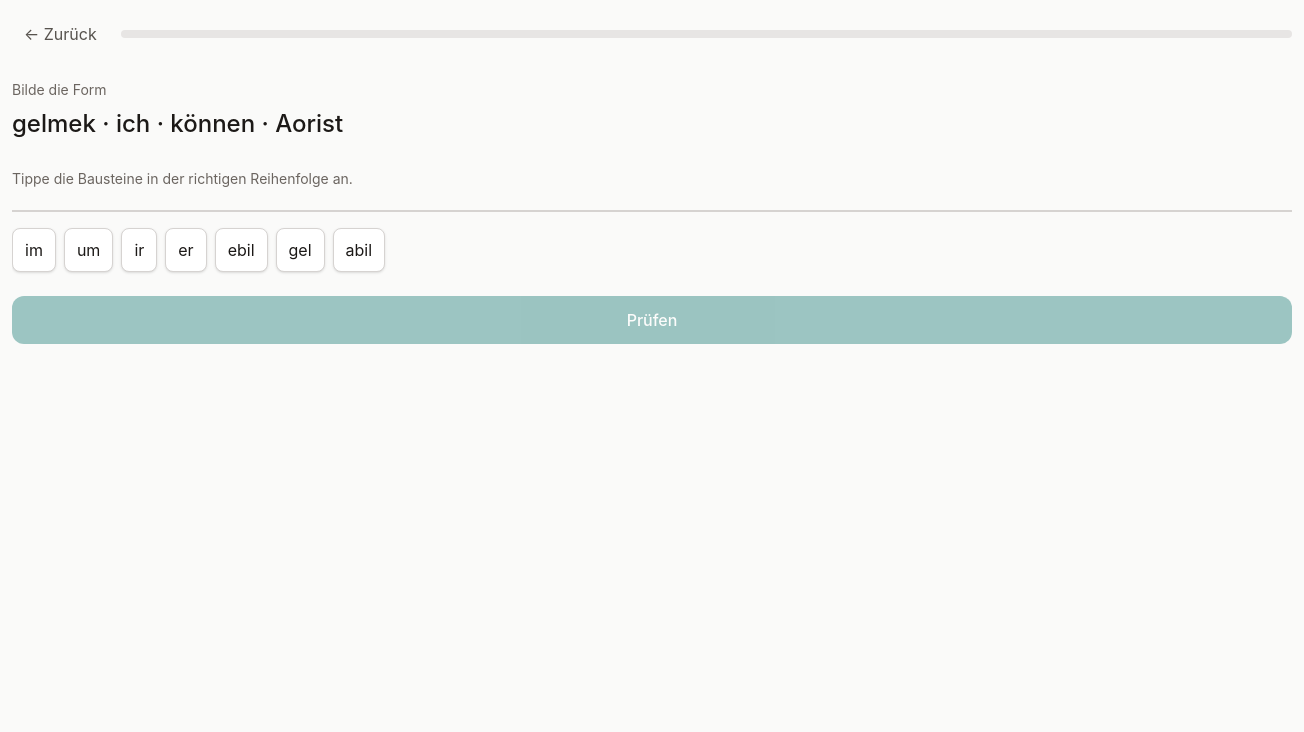
Test: LessonRunner › Konjugation mit „können“: Formel und Begründung des Aorist-Vokals
The width and height of the screenshot is (1304, 732).
Check: the text "gelmek · ich · können · Aorist" is shown, box [12,109,343,138]
Click the button "gel": (300, 250) [276,228,324,272]
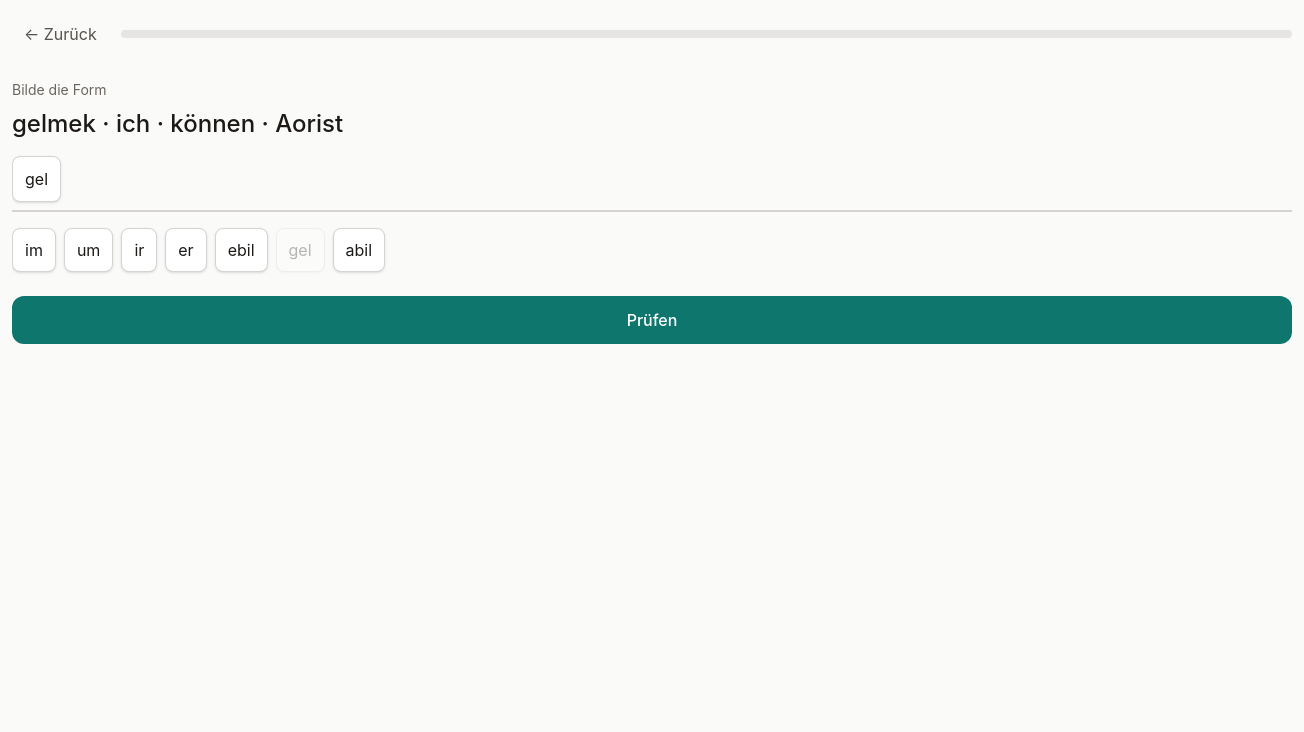
Click the button "ebil": (241, 250) [215,228,268,272]
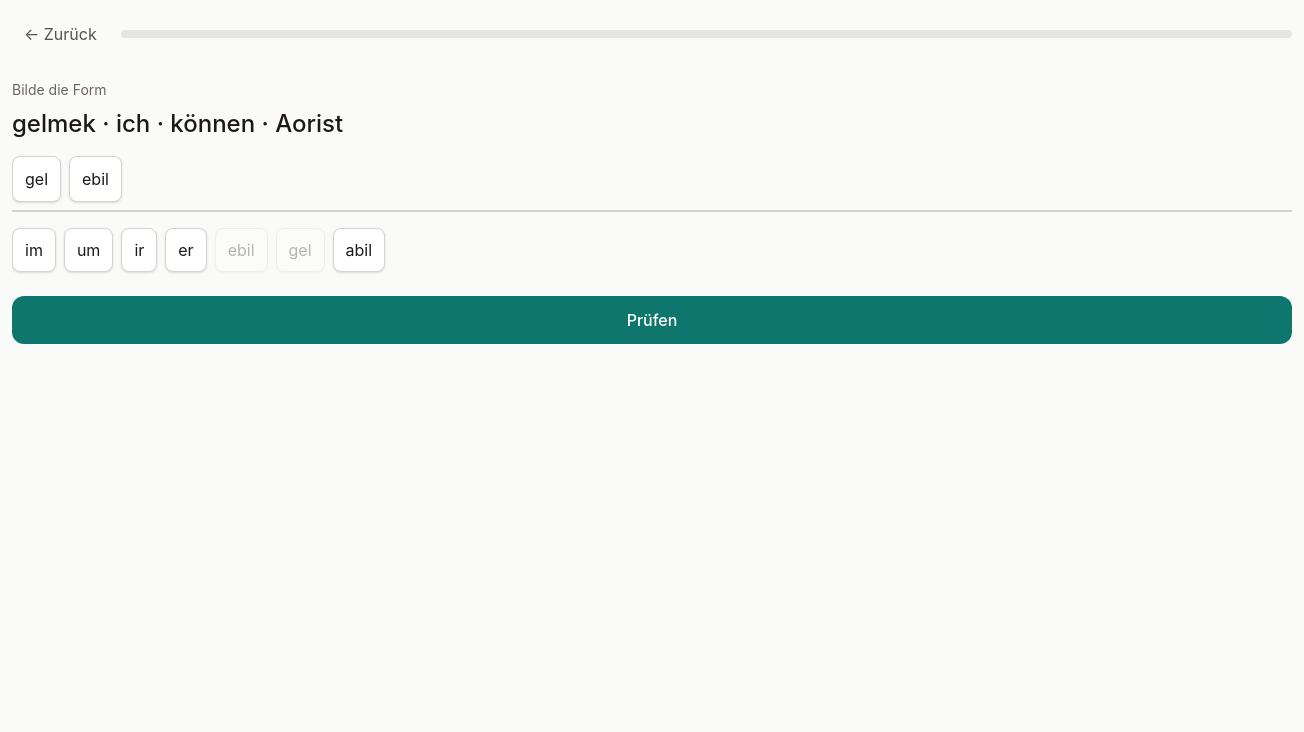
Click the button "ir": (139, 250) [121,228,157,272]
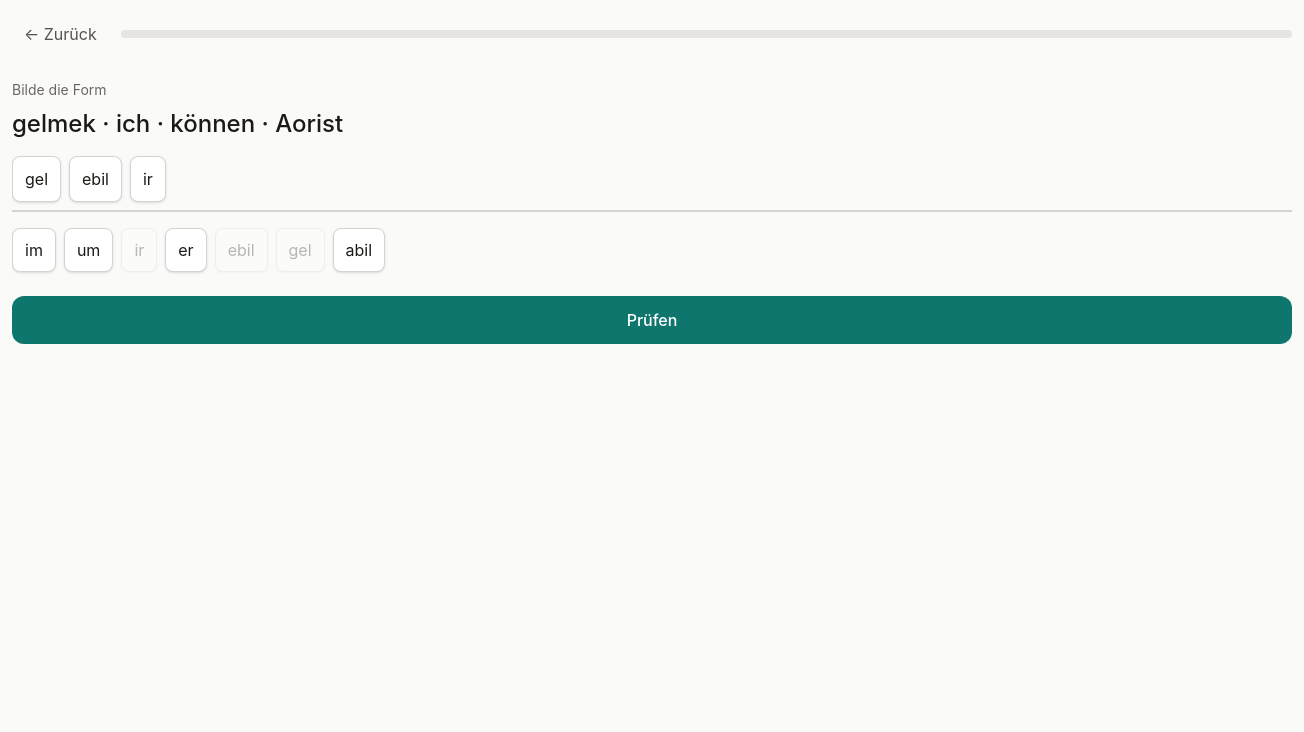
Click the button "im": (34, 250) [12,228,56,272]
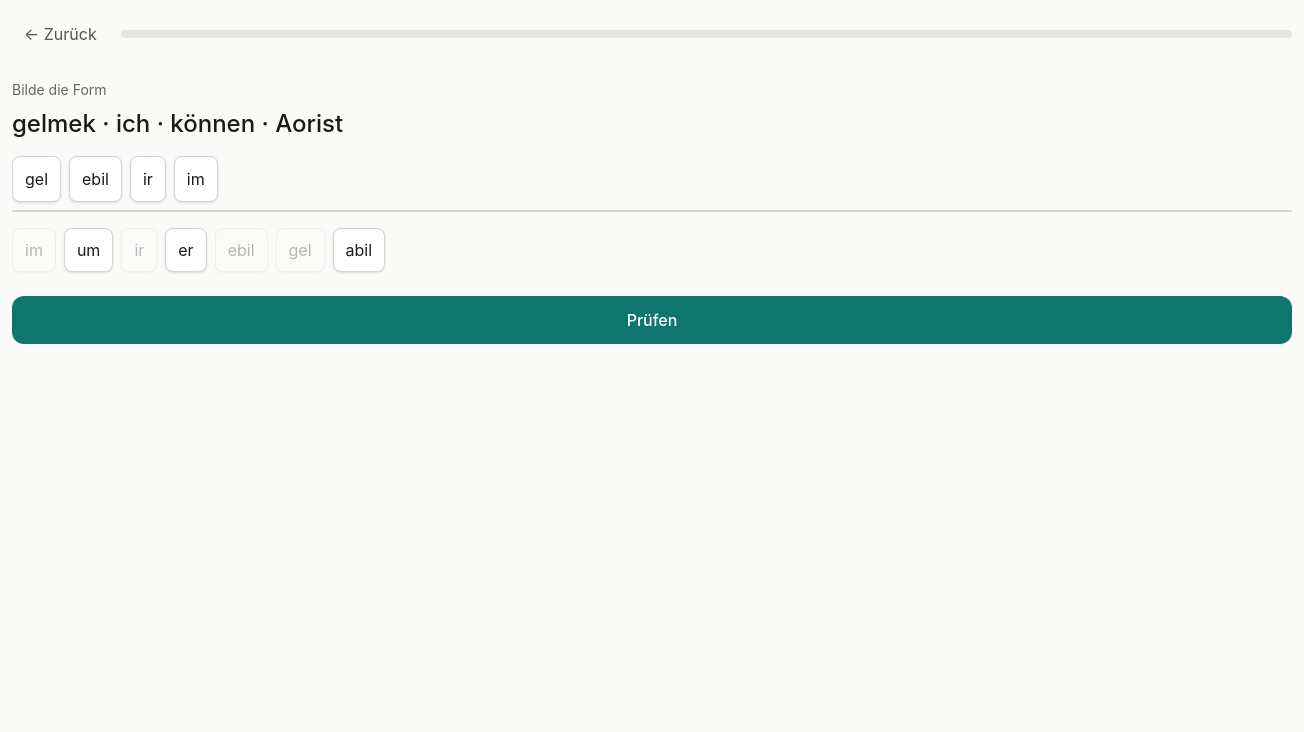
Click the button "Prüfen": (652, 320) [12,296,1292,344]
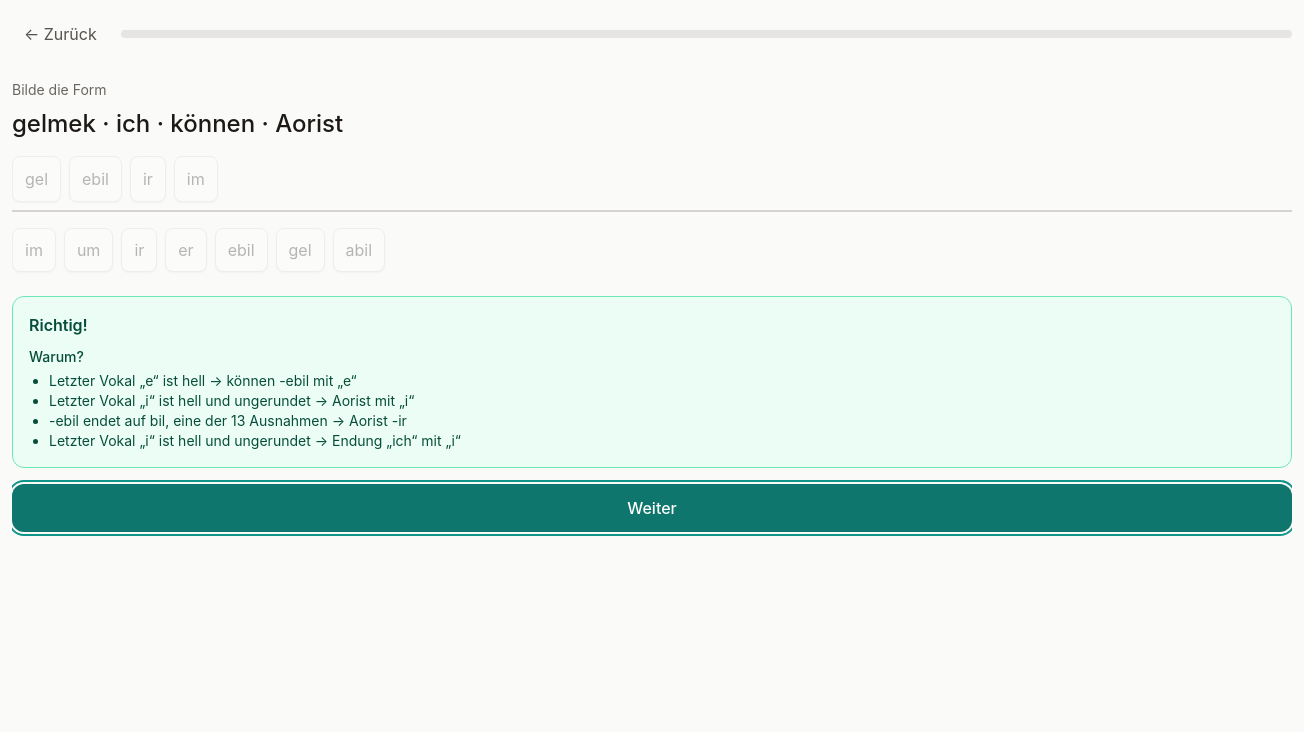
Check: the message shows "Richtig!", box [29,315,88,335]
Check: the message shows "-ebil endet auf bil", box [49,412,407,429]
